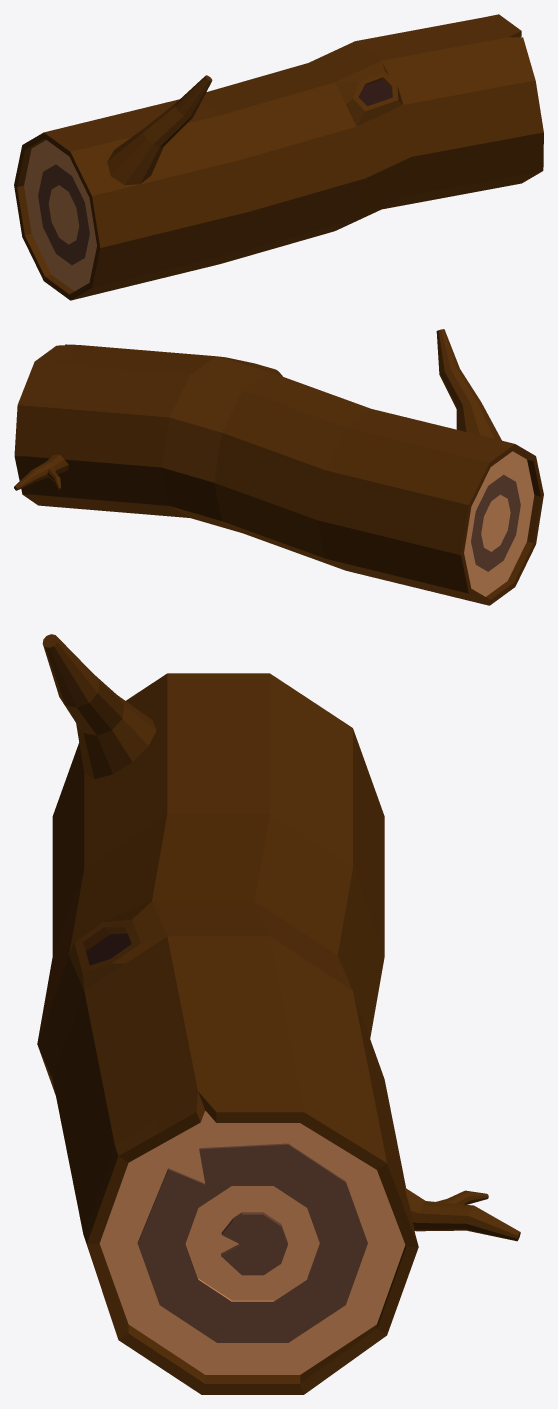
Rendered from tronco.fbx.
3 views of the same model, one above another, from view 1: azimuth 30°, elevation 25°; view 2: azimuth 150°, elevation 25°; view 3: azimuth 270°, elevation 25° (orthographic). The views are drawn at different scales.
Visible parts, largest first — view 1: Tronco; view 2: Tronco; view 3: Tronco.
Boxes of the visible parts, x1=… form: Tronco: x1=14, y1=14, x2=543, y2=300; Tronco: x1=14, y1=329, x2=543, y2=605; Tronco: x1=37, y1=634, x2=520, y2=1394.
Bounding box in the file's own units: 405 × 185 × 190.
